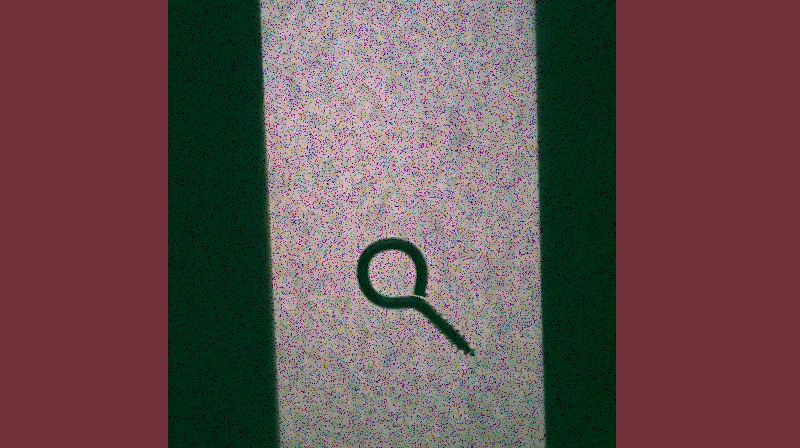O001: (351, 233, 478, 363)
